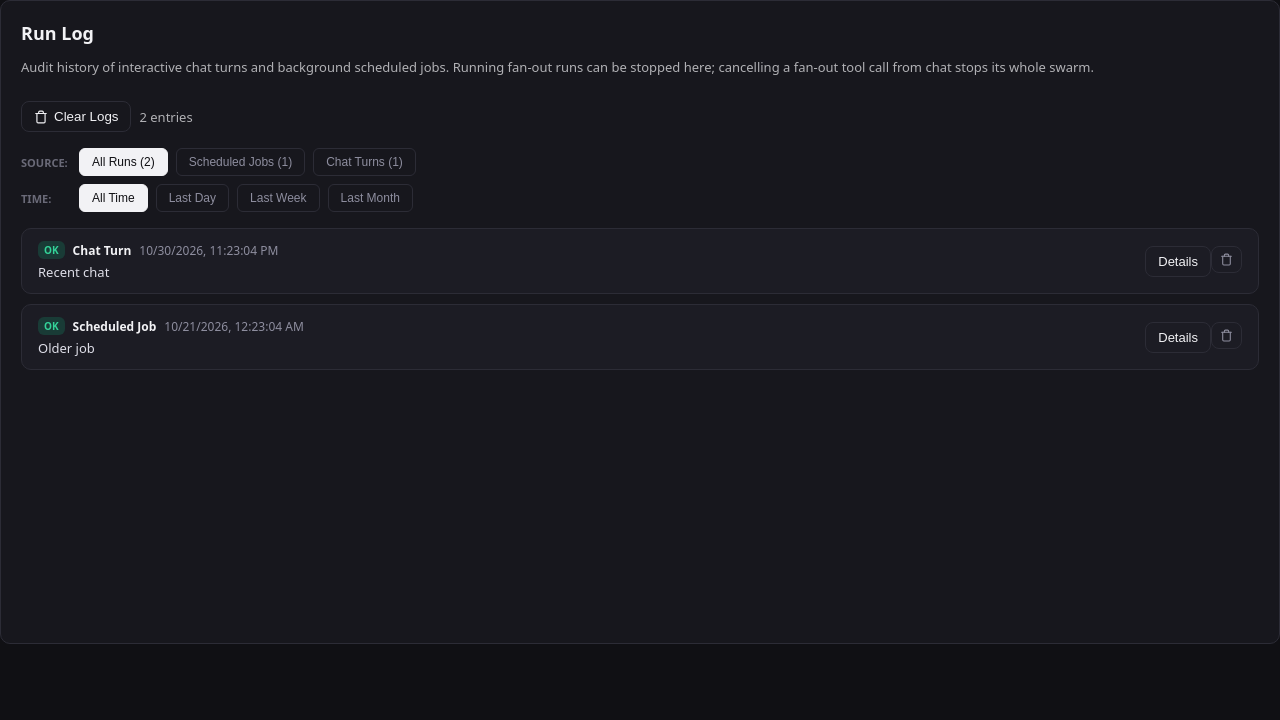
Test: RunLogViewer › filters runs by time range and persists filter choices to localStorage
The image size is (1280, 720).
Expected: the text "Recent chat" is shown, [38, 263, 109, 281]
Expected: the text "Older job" is shown, [38, 339, 95, 357]
Filter by "Last Day": only "Recent chat" should remain
Click the button "Last Day". click: click(192, 198)
box: [156, 184, 229, 212]
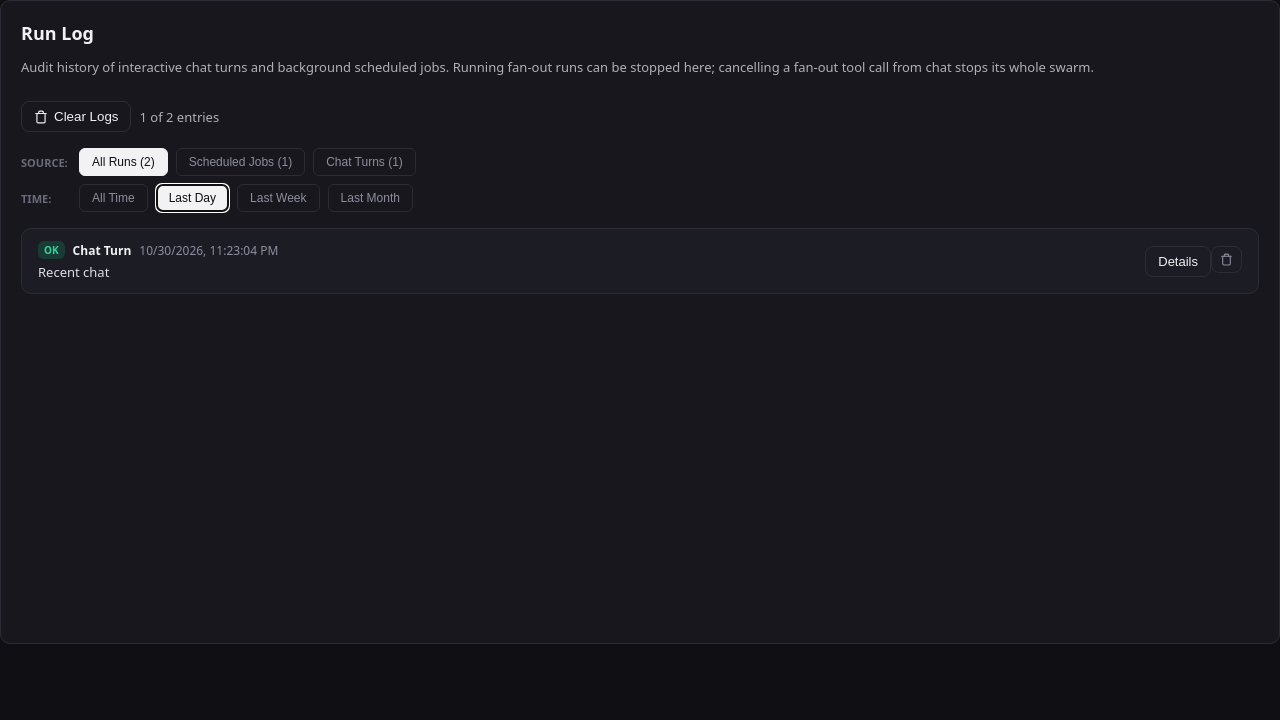
Expected: the text "Recent chat" is shown, [38, 263, 109, 281]
Now the text "Older job" is gone
Filter by "Scheduled Jobs" while still in Last Day: none match
Click the button "Scheduled Jobs (1)". click: click(240, 162)
box: [176, 148, 305, 176]
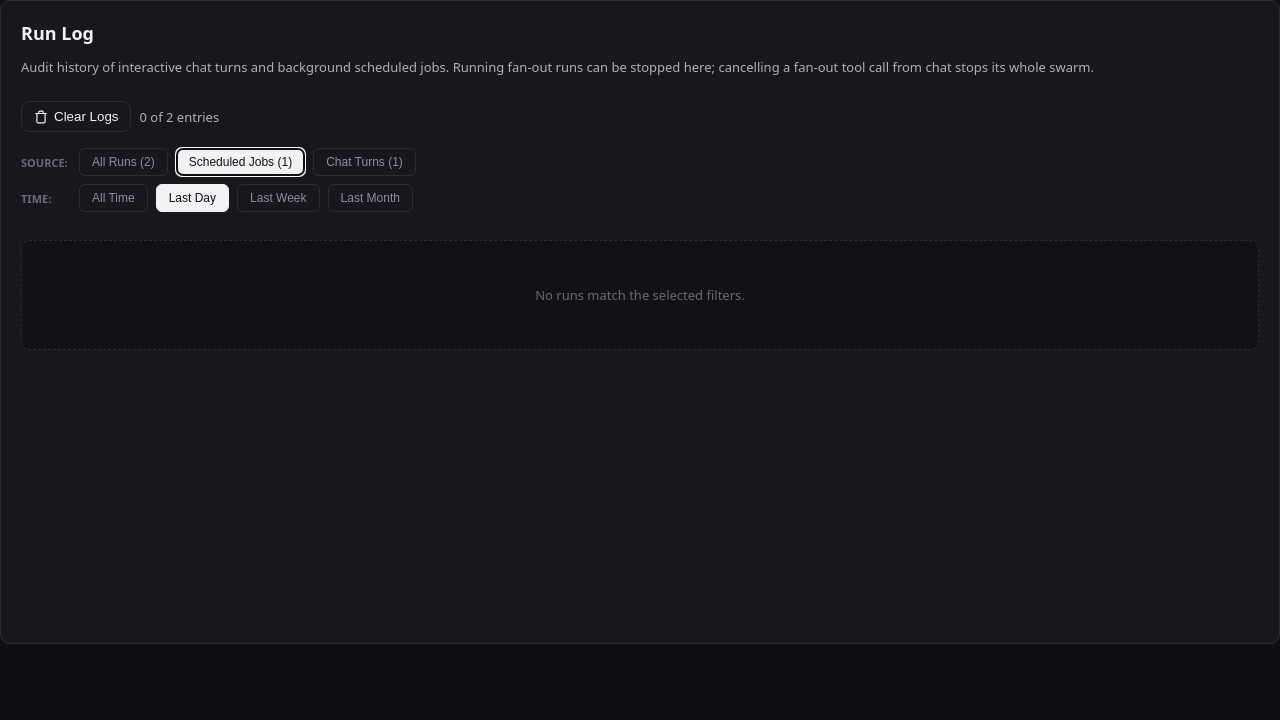
Expected: the text "Older job" is not shown
Now the text "Recent chat" is gone
Switch to "Last Month": Older job matches
Click the button "Last Month". click: click(370, 198)
box: [328, 184, 413, 212]
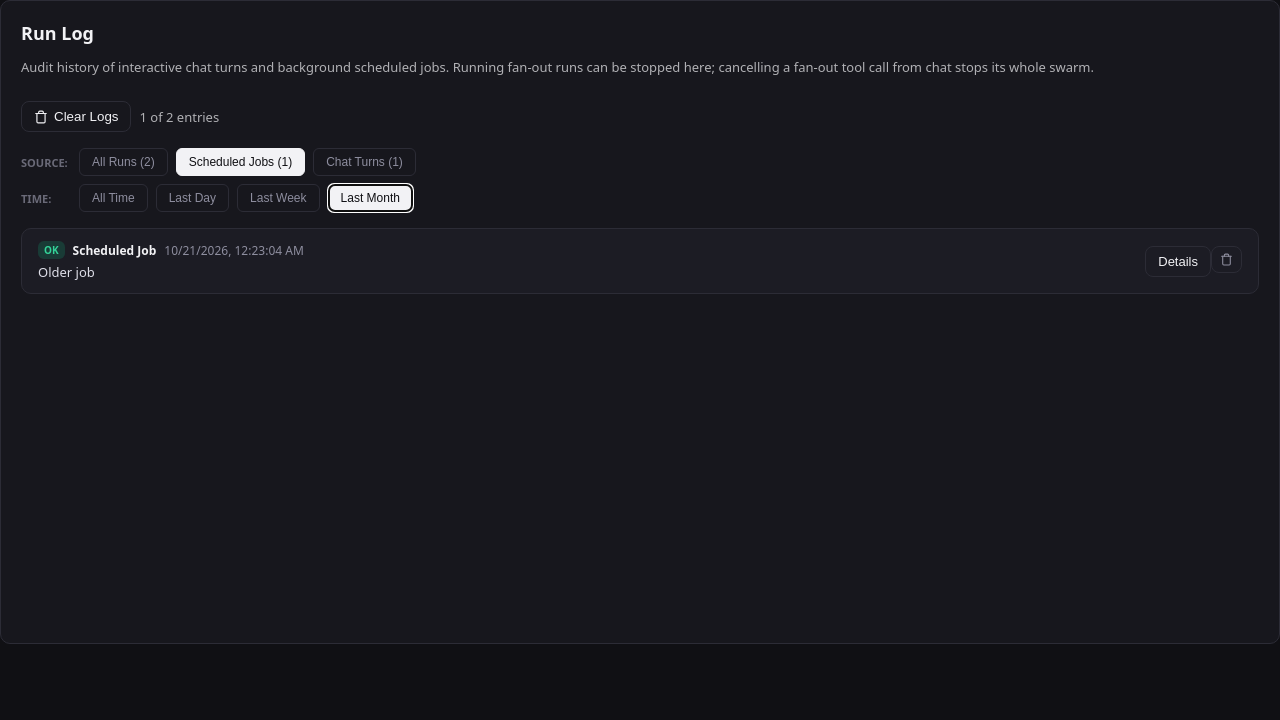
Now the text "Older job" is shown, box [38, 263, 95, 281]
